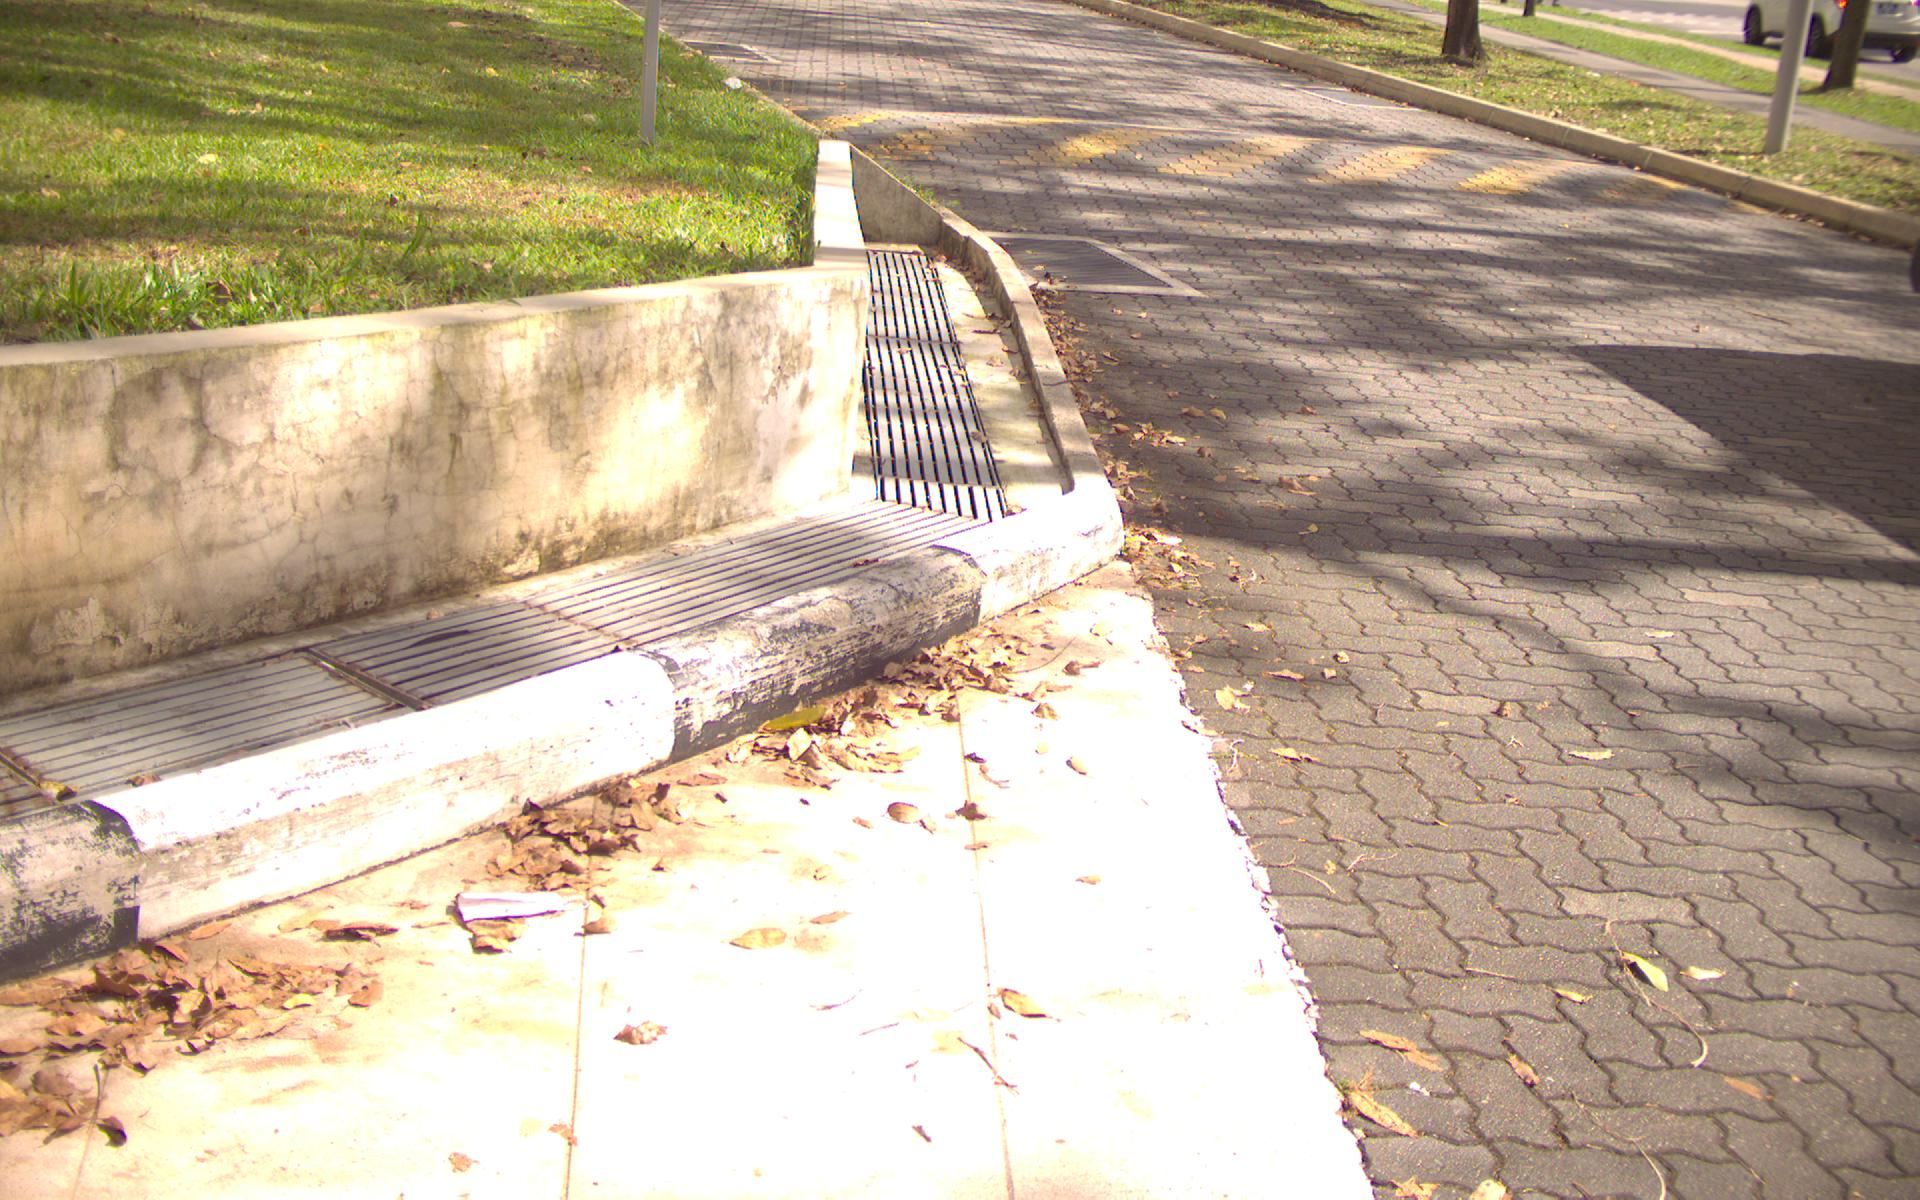curb_dic_low: (8, 599, 809, 712), (876, 249, 992, 505)
pathway_low: (1113, 162, 1920, 1055)
road_curb_medium: (36, 973, 1306, 1192)
road_turf_low: (10, 21, 630, 238)
